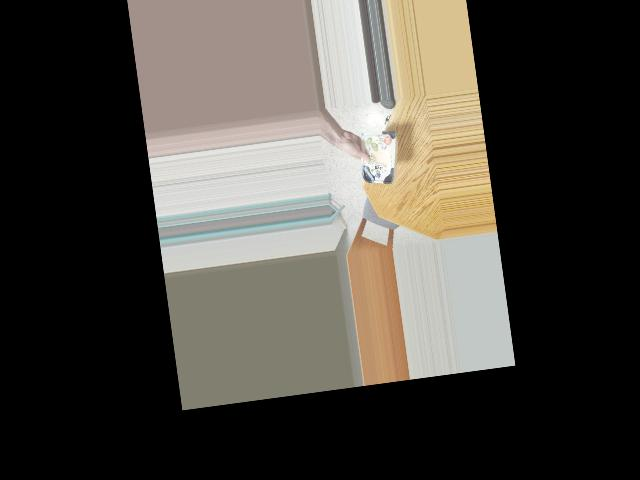cheese: (357, 135, 399, 188)
